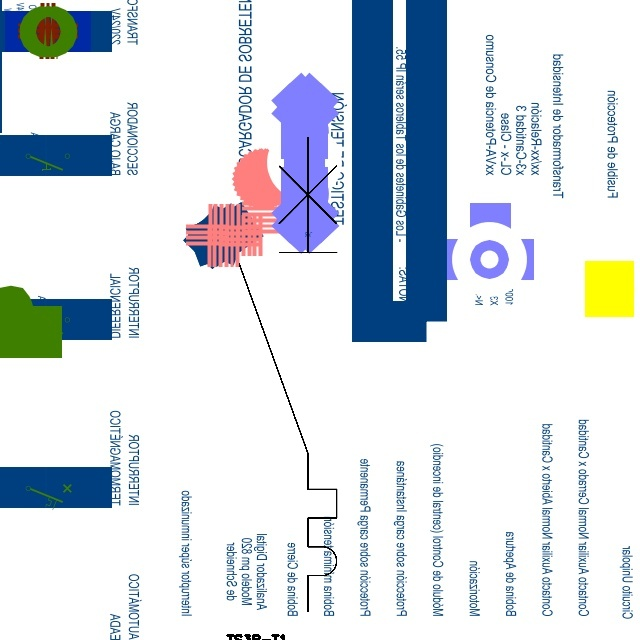interruptor_termomagnetico: (227, 125, 349, 624)
